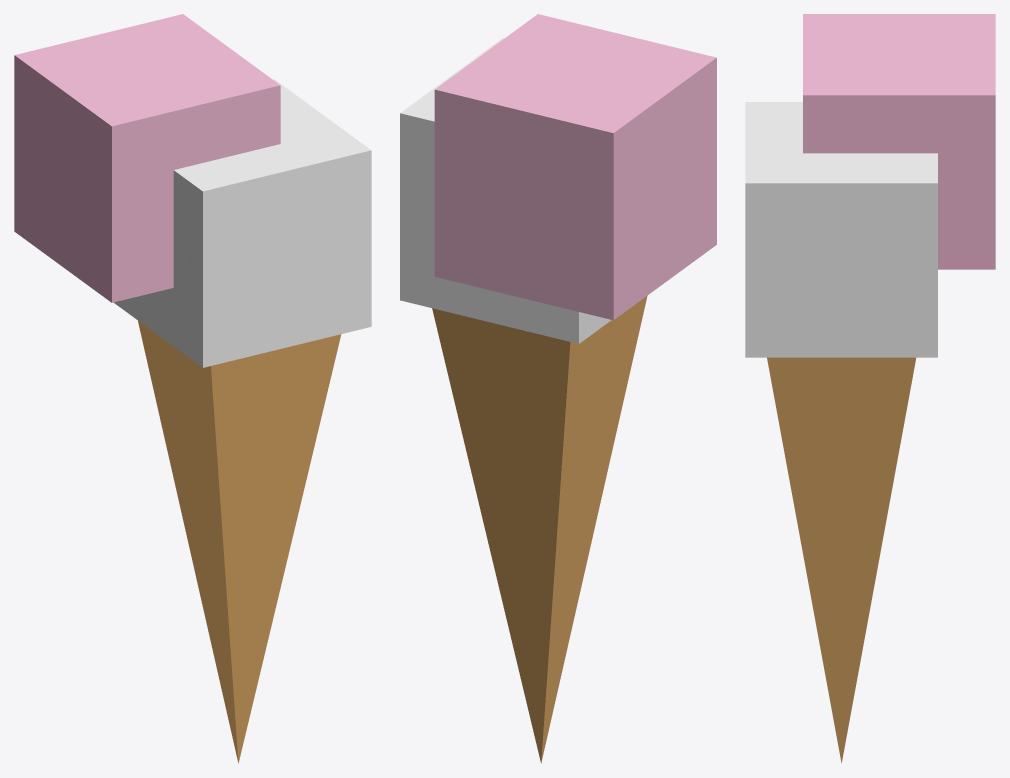
Rendered from CandylandIcecream_04.fbx.
3 views of the same model, side by side, from view 1: azimuth 30°, elevation 25°; view 2: azimuth 150°, elevation 25°; view 3: azimuth 270°, elevation 25° (orthographic). The views are drawn at different scales.
Parts seen in each view (by area): view 1: CandylandIcecream_04; view 2: CandylandIcecream_04; view 3: CandylandIcecream_04.
Boxes of the visible parts, x1,y1,x2,y2 form: CandylandIcecream_04: (14, 14, 371, 763); CandylandIcecream_04: (400, 14, 716, 763); CandylandIcecream_04: (745, 14, 995, 762).
Size of the model in its own units: 0.3471 by 0.9894 by 0.3301.
